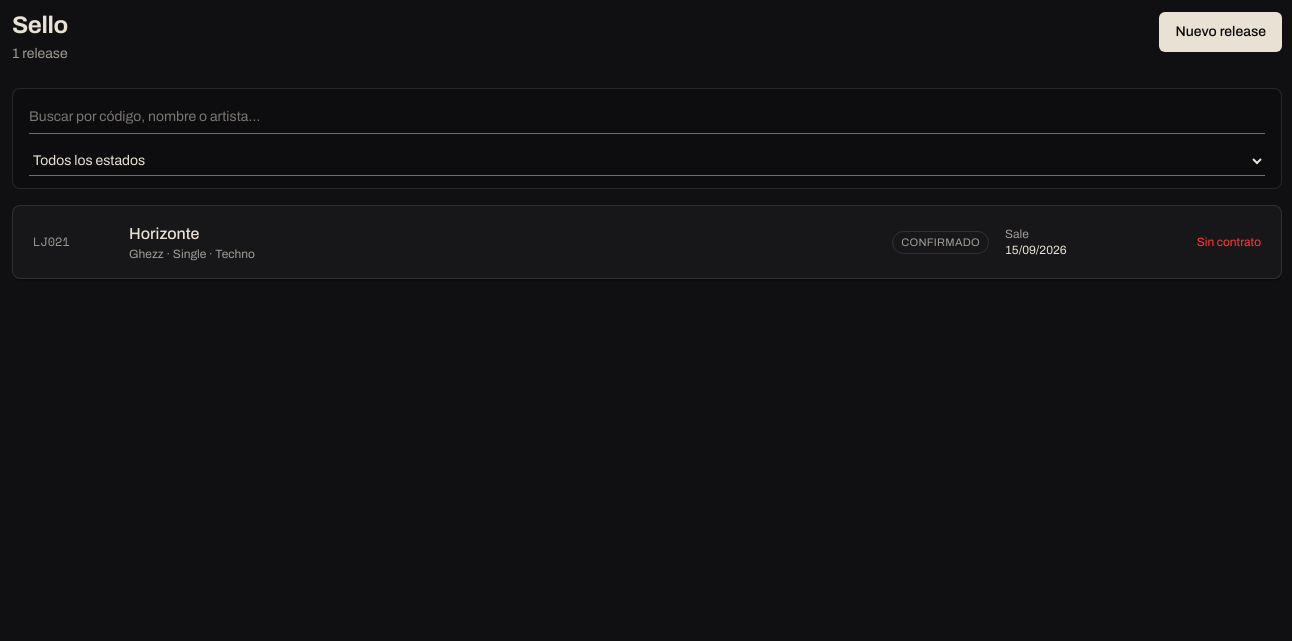
Test: los contratos y las apariciones › se lee bien sin ninguna aparición cargada
This screenshot has width=1292, height=641.
Click the text "Horizonte" at point(164, 234), box left=129, top=225, right=199, bottom=242
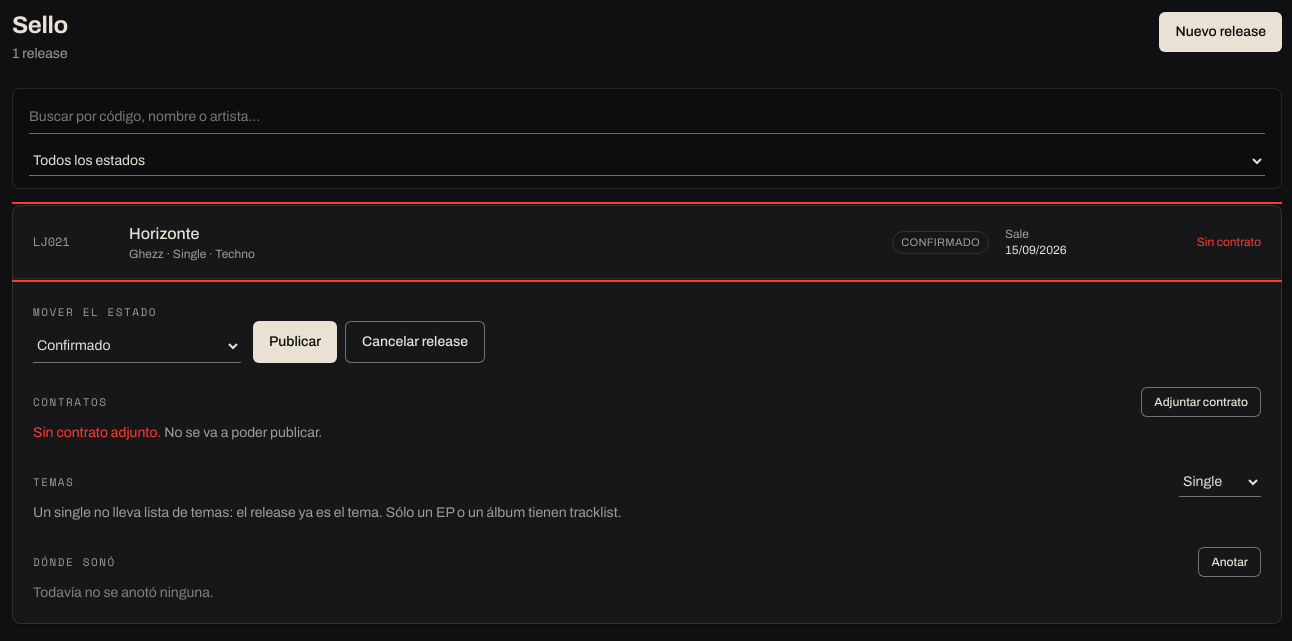
Check: the text "Todavía no se anotó ninguna." is shown, box left=33, top=585, right=214, bottom=600
